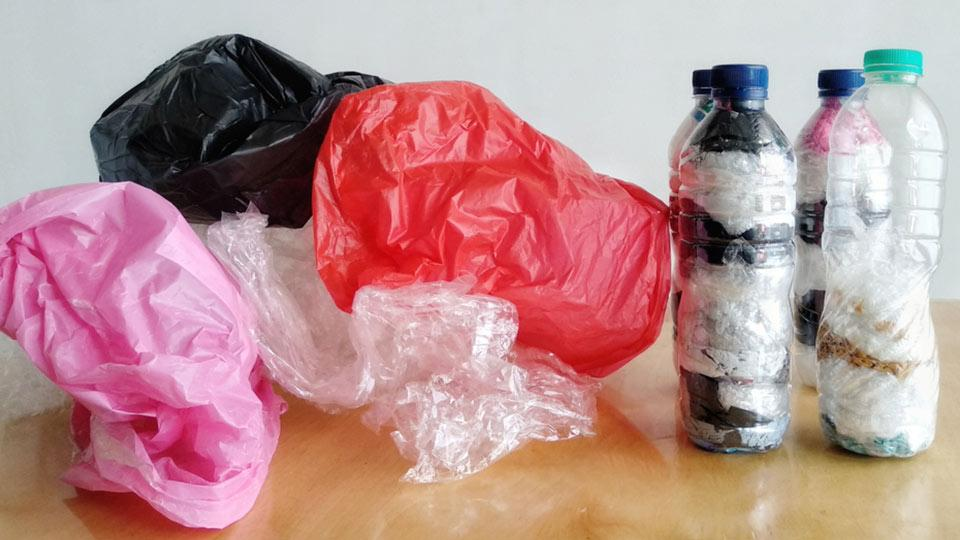HDPE: (710, 63, 768, 99), (864, 48, 923, 75), (690, 68, 746, 96), (814, 68, 867, 97)
LDPE: (315, 80, 672, 377), (0, 184, 287, 533), (90, 34, 390, 227), (256, 284, 592, 415)
PETE: (814, 74, 948, 457), (677, 100, 798, 455), (792, 98, 894, 387)
